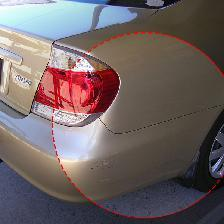bumper_scratch: (40, 55, 224, 161)
